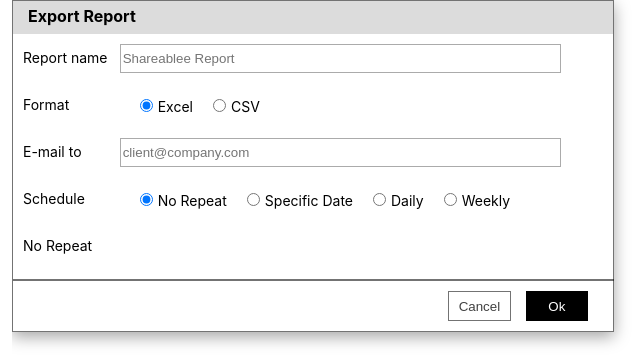
Export report modal advanced functioanities › should show error label when trying to send report with empty inputs
Click the button "Ok" at (557, 306), box [526,291,588,321]
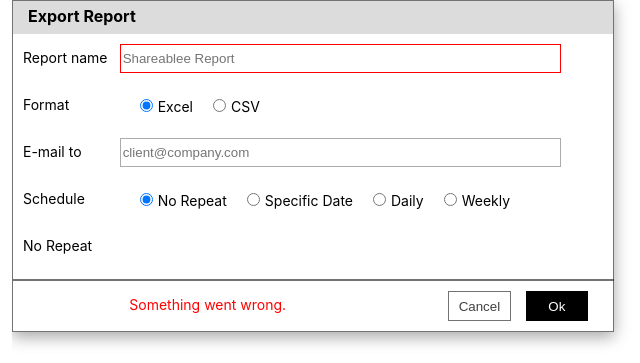
Check: the text "Something went wrong." is shown, box [129,296,286,313]
